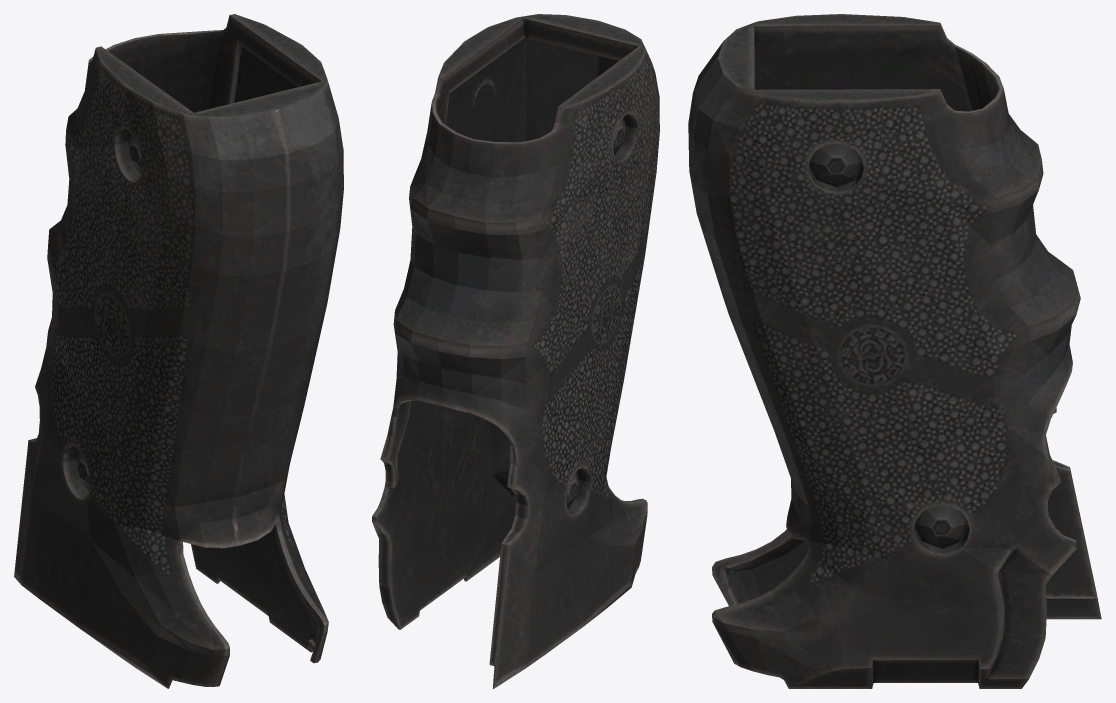
3 renders of one model, left to right at view 1: azimuth 30°, elevation 25°; view 2: azimuth 150°, elevation 25°; view 3: azimuth 270°, elevation 25°, orthographic. The views are drawn at different scales.
Visible parts, largest first — view 1: TW_5b39ffbd5acfc47a8773fb06_PZ_Import; view 2: TW_5b39ffbd5acfc47a8773fb06_PZ_Import; view 3: TW_5b39ffbd5acfc47a8773fb06_PZ_Import.
Part boxes in pixels (x1,y1,x2,y2): TW_5b39ffbd5acfc47a8773fb06_PZ_Import: [14, 14, 343, 688]; TW_5b39ffbd5acfc47a8773fb06_PZ_Import: [372, 14, 659, 688]; TW_5b39ffbd5acfc47a8773fb06_PZ_Import: [688, 14, 1101, 688].
Bounding box in the file's own units: 0.02 × 0.0394 × 0.0628.
Materials: 1 (1 with a texture image).
